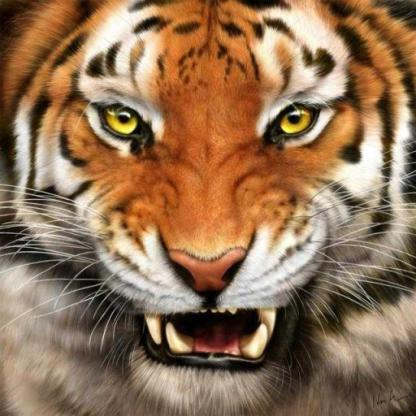Tiger: (16, 10, 415, 415)
